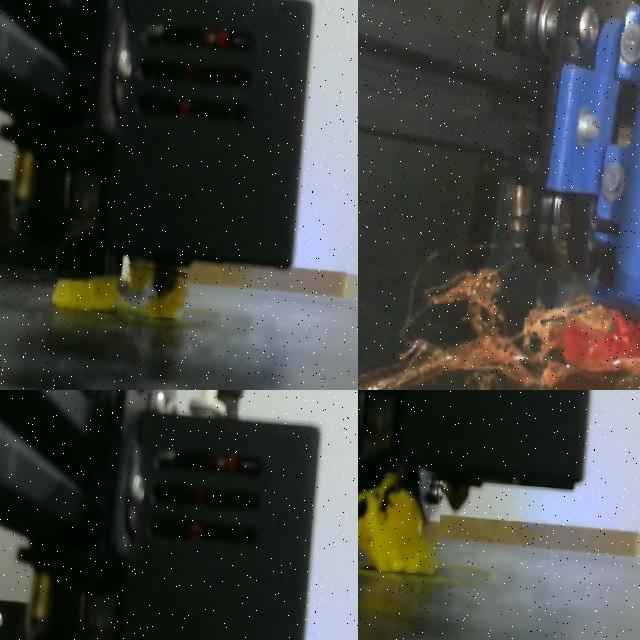spaghetti: (358, 268, 640, 390), (358, 475, 435, 574), (52, 265, 184, 318)
